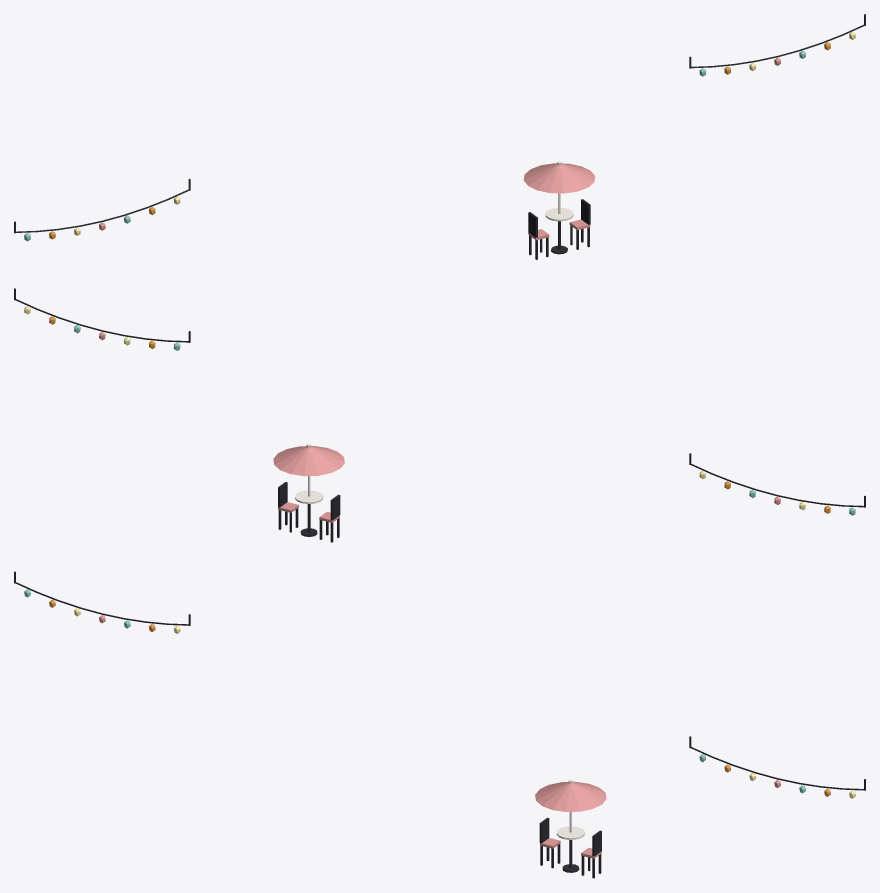
Rendered from CatCafe_Plot_Tier3_56x43.glb.
The picture shows the model from 3 angles, top to bottom: view 1: azimuth 30°, elevation 25°; view 2: azimuth 150°, elevation 25°; view 3: azimuth 330°, elevation 25°; orthographic projection.
Parts seen in each view (by area): view 1: CatCafe_Plot_Tier3_56x43_Bistro, CatCafe_Plot_Tier3_56x43, CatCafe_Plot_Tier3_56x43_StringLights_Bulbs; view 2: CatCafe_Plot_Tier3_56x43_Bistro, CatCafe_Plot_Tier3_56x43, CatCafe_Plot_Tier3_56x43_StringLights_Bulbs; view 3: CatCafe_Plot_Tier3_56x43_Bistro, CatCafe_Plot_Tier3_56x43, CatCafe_Plot_Tier3_56x43_StringLights_Bulbs.
Part boxes in pixels (box(x1,y1,x2,y2)): CatCafe_Plot_Tier3_56x43_Bistro: box(523, 161, 595, 259); CatCafe_Plot_Tier3_56x43: box(14, 14, 865, 233); CatCafe_Plot_Tier3_56x43_StringLights_Bulbs: box(24, 31, 855, 241); CatCafe_Plot_Tier3_56x43_Bistro: box(273, 444, 344, 542); CatCafe_Plot_Tier3_56x43: box(14, 288, 865, 507); CatCafe_Plot_Tier3_56x43_StringLights_Bulbs: box(24, 306, 855, 515); CatCafe_Plot_Tier3_56x43_Bistro: box(535, 779, 606, 878); CatCafe_Plot_Tier3_56x43: box(14, 571, 865, 790); CatCafe_Plot_Tier3_56x43_StringLights_Bulbs: box(24, 589, 855, 798).
Bounding box in the file's own units: 51.68 × 9.71 × 3.8.
1 material, 1 textured.
